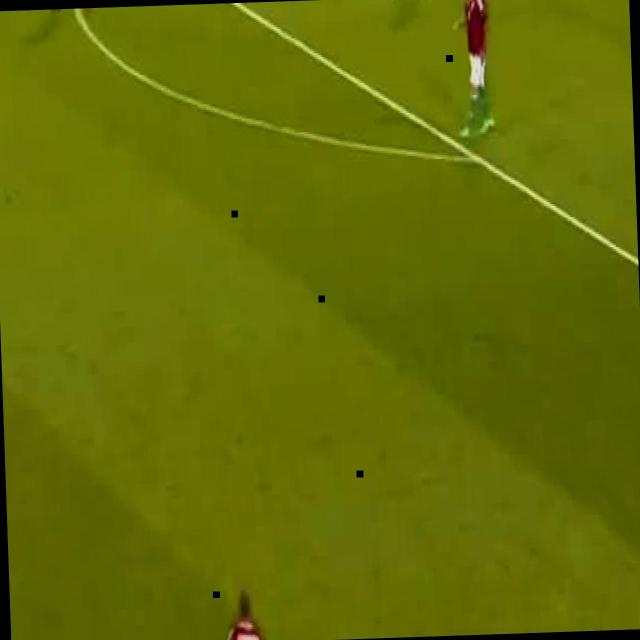player-white: (451, 0, 492, 138)
